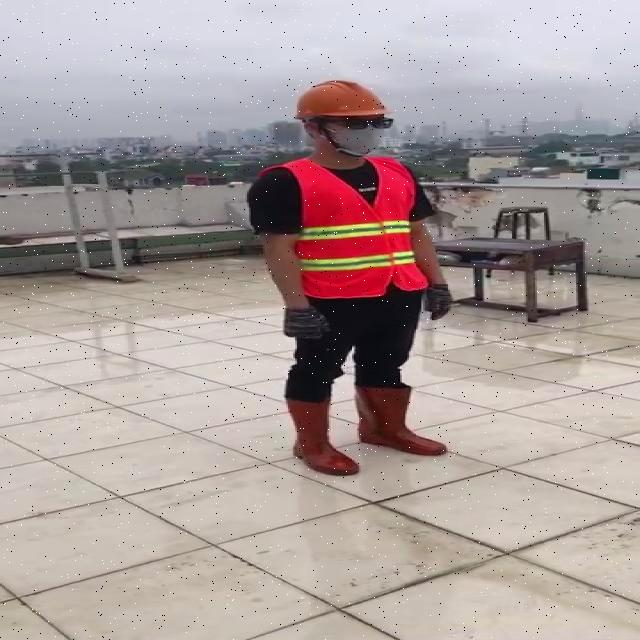Hard_hat: (290, 79, 401, 134)
Person: (236, 73, 452, 578)
Vest: (289, 153, 416, 298)
